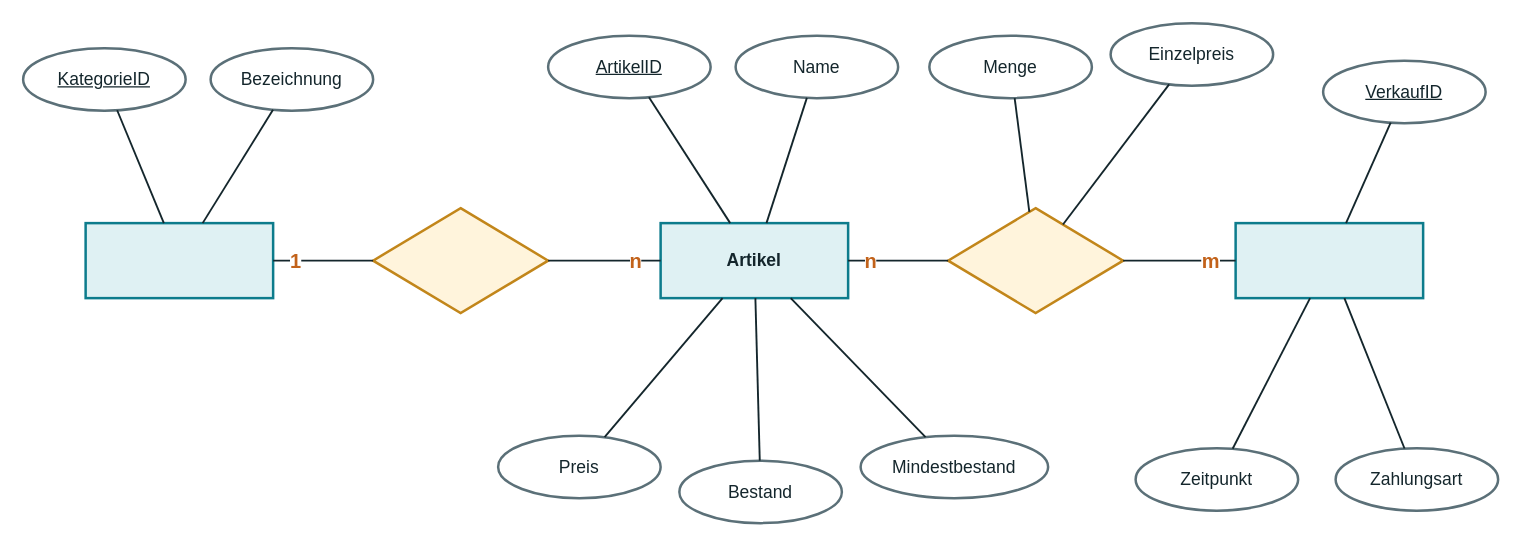
This 1520x545 diagram has some shape labels left out. The shapes that lost their labels are listed below. From the top down, each one's box as (x1, y1, x2, y2) in pixels, then its label:
(84, 221, 274, 299): Kategorie
(371, 206, 549, 314): gehört zu
(946, 206, 1124, 314): enthält
(1234, 221, 1424, 299): Verkauf
